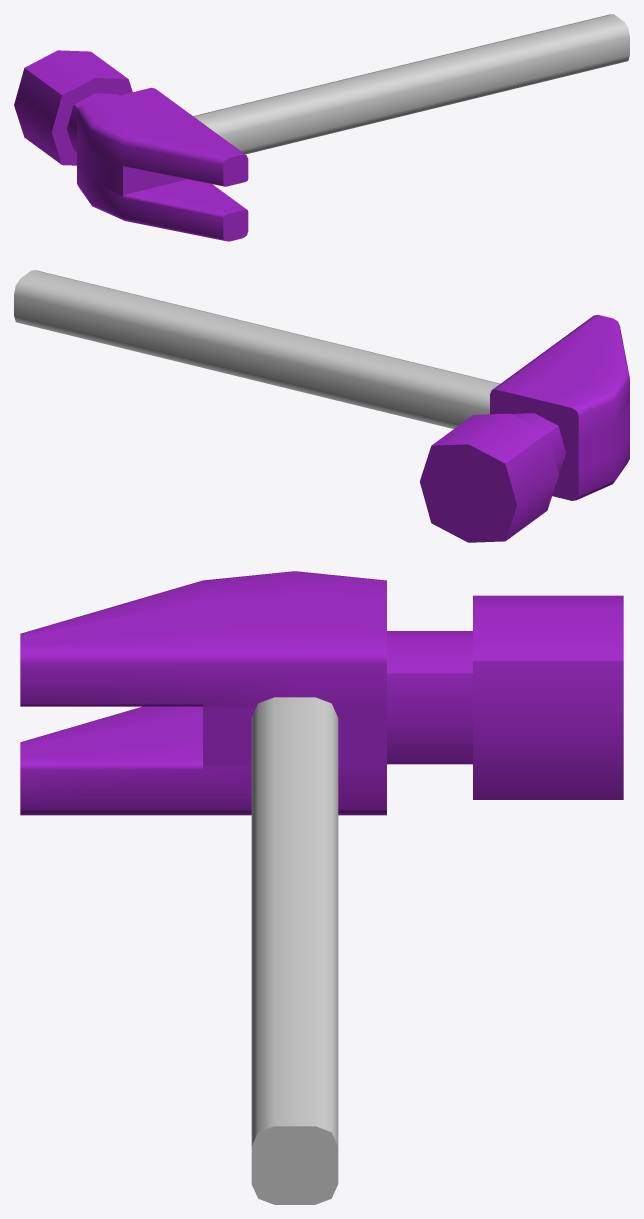
The model's file is Hammer.fbx.
3 renders of one model, top to bottom at view 1: azimuth 30°, elevation 25°; view 2: azimuth 150°, elevation 25°; view 3: azimuth 270°, elevation 25°, orthographic. The views are drawn at different scales.
Parts seen in each view (by area): view 1: Hammer; view 2: Hammer; view 3: Hammer.
Part boxes in pixels (x1=…): Hammer: x1=14, y1=14, x2=629, y2=241; Hammer: x1=14, y1=270, x2=629, y2=542; Hammer: x1=20, y1=571, x2=623, y2=1204.
Bounding box in the file's own units: 34.99 × 5.59 × 17.29.
